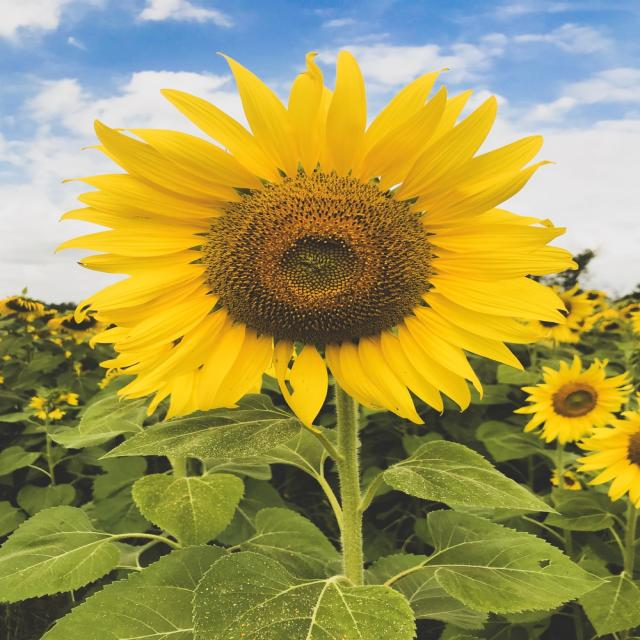sunflower: (49, 39, 585, 424), (512, 345, 628, 449)
